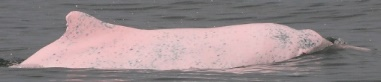fin: (7, 8, 339, 75)
